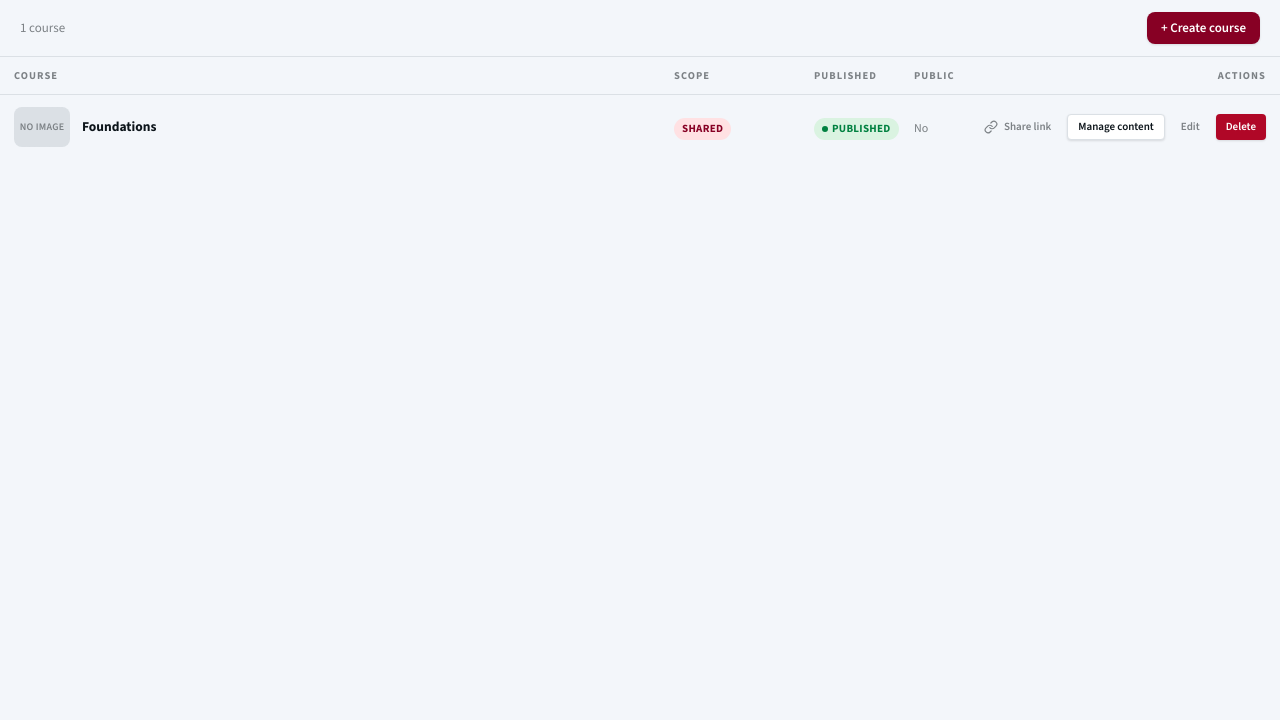
Test: AdminCourseManager › reenables course deletion when the request rejects
Click the button "Delete" at (1241, 127), box left=1216, top=114, right=1266, bottom=140
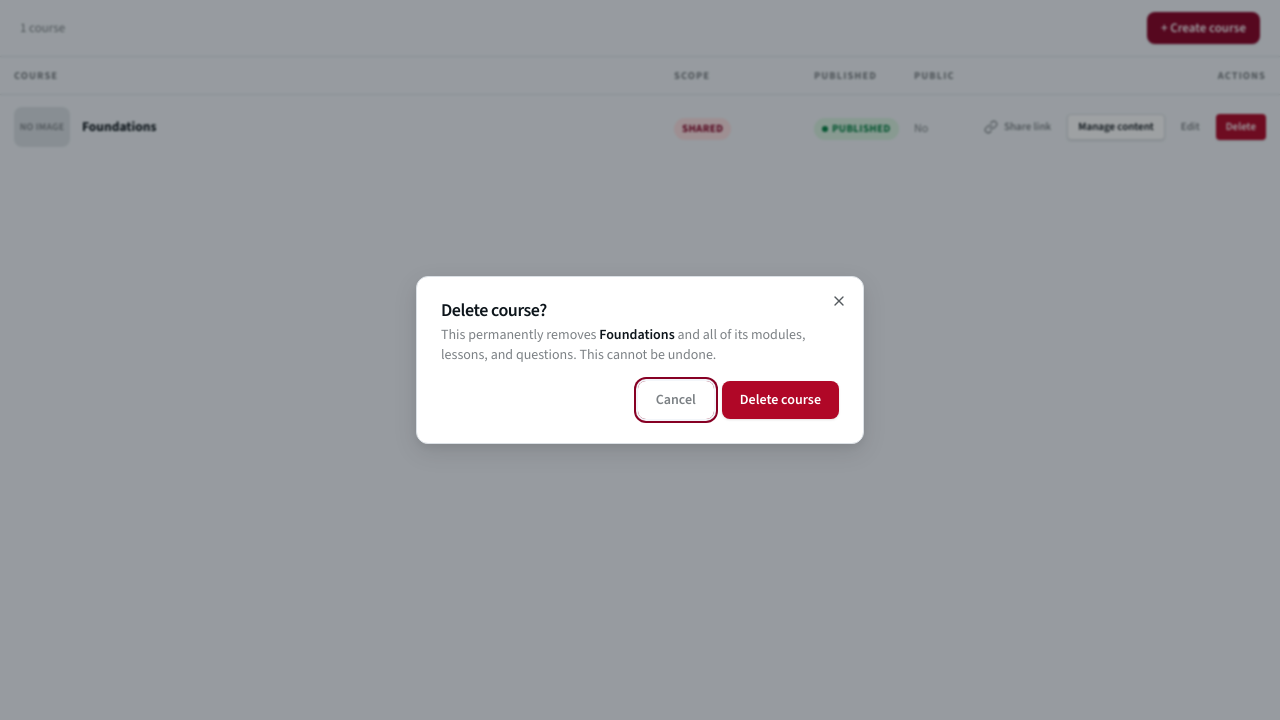
Click the button "Delete course" at (780, 400), box left=722, top=381, right=839, bottom=419
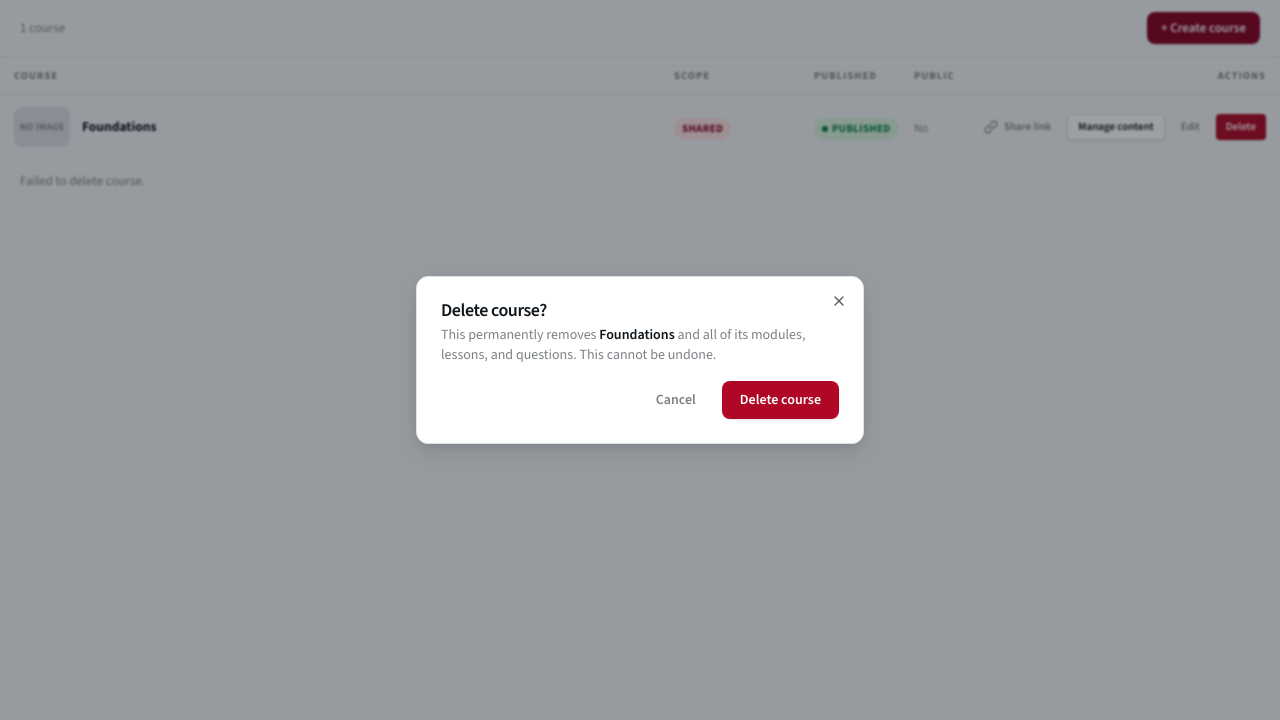
Expected: the button "Delete course" is enabled, left=722, top=381, right=839, bottom=419
Expected: the text "Failed to delete course." is shown, left=20, top=172, right=145, bottom=189
